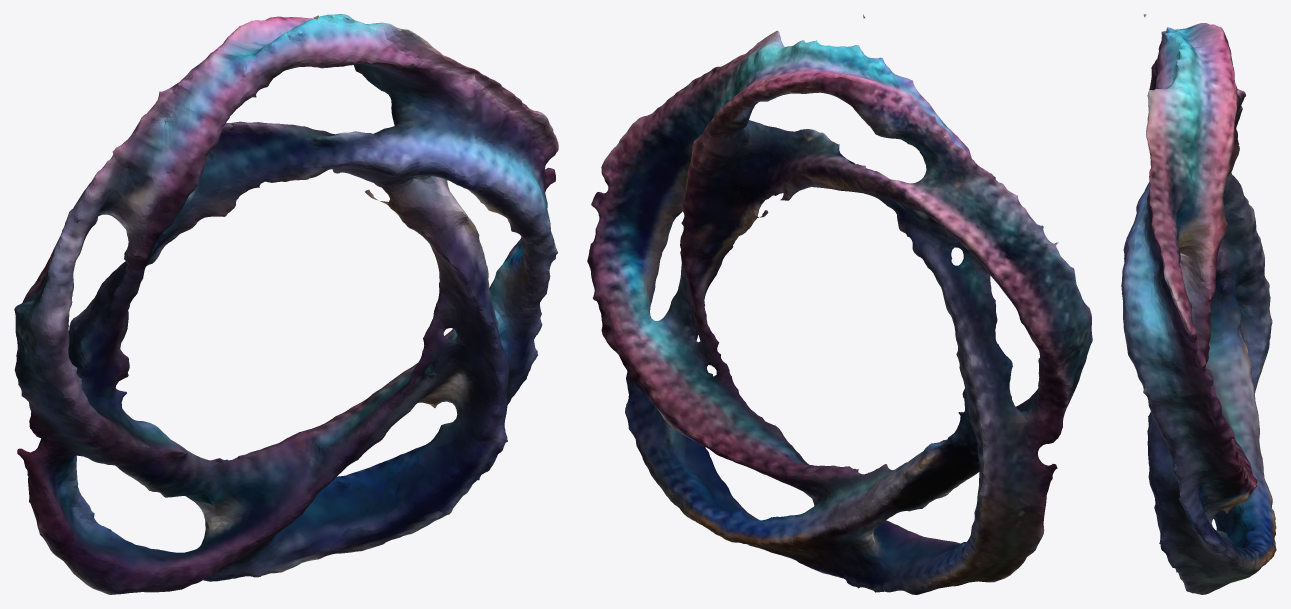
The model's file is work06.glb.
3 views of the same model, side by side, from view 1: azimuth 30°, elevation 25°; view 2: azimuth 150°, elevation 25°; view 3: azimuth 270°, elevation 25° (orthographic). The views are drawn at different scales.
Parts seen in each view (by area): view 1: mesh; view 2: mesh; view 3: mesh.
Part boxes in pixels (<box>): mesh: <box>14,14,558,594</box>; mesh: <box>587,14,1092,594</box>; mesh: <box>1121,14,1276,594</box>.
Size of the model in its own units: 0.1698 by 0.1775 by 0.0462.
Materials: 1 (1 with a texture image).
